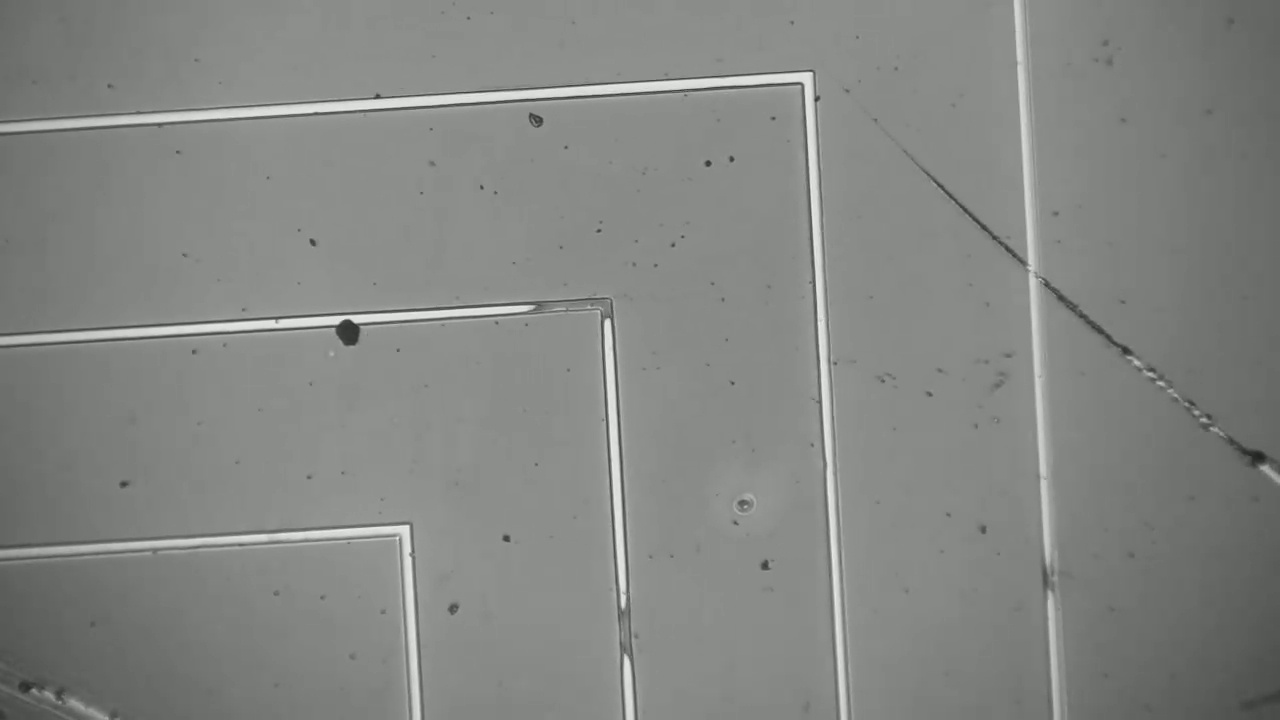edge_bite: (392, 549, 419, 563)
gray_line: (519, 292, 622, 323), (609, 596, 642, 677), (1032, 550, 1069, 609), (589, 286, 624, 333)
scratch: (876, 121, 1278, 473), (0, 619, 128, 719)
stains_enbedded: (324, 301, 370, 353)
